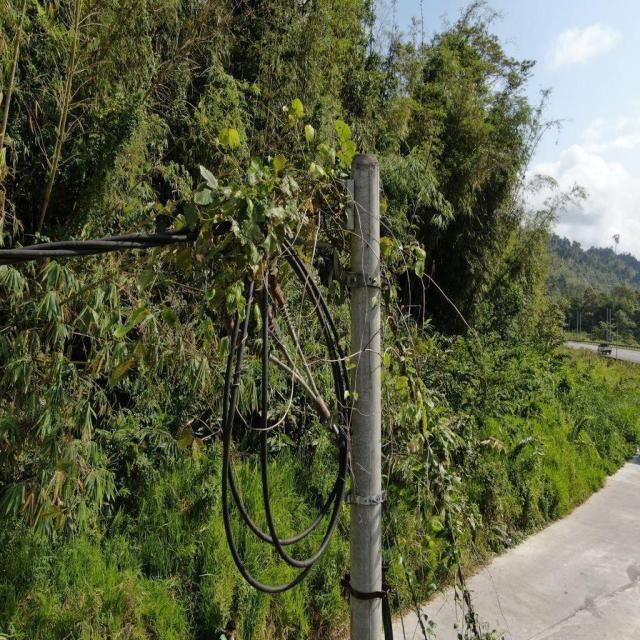critical vegetation: (166, 112, 485, 618)
